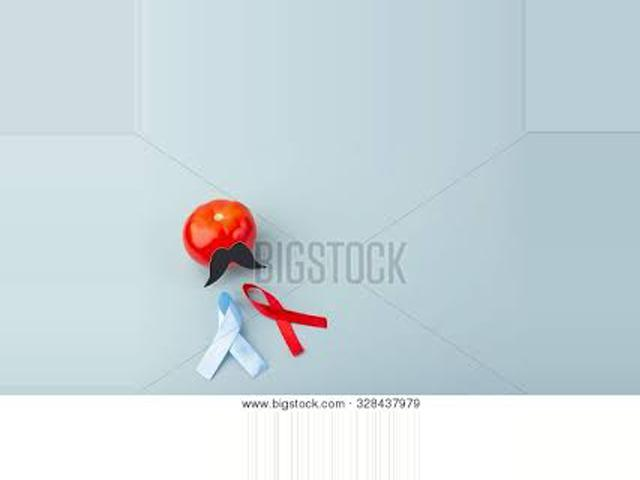tomato: (183, 199, 256, 268)
